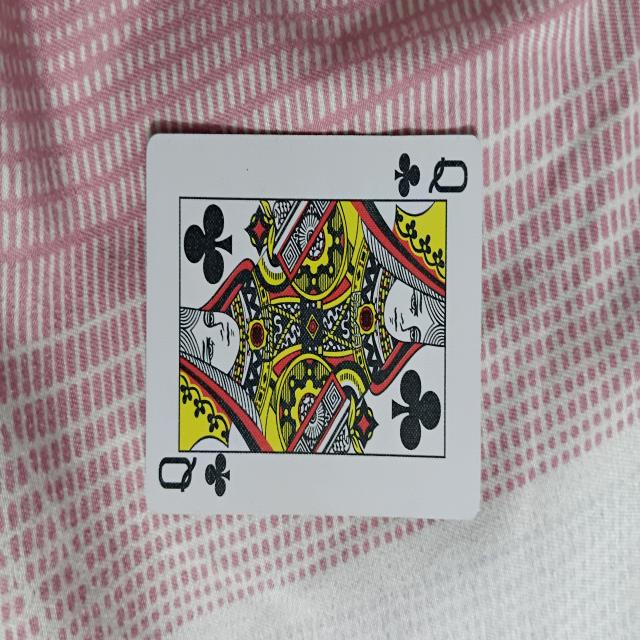QC: (142, 133, 482, 518)
